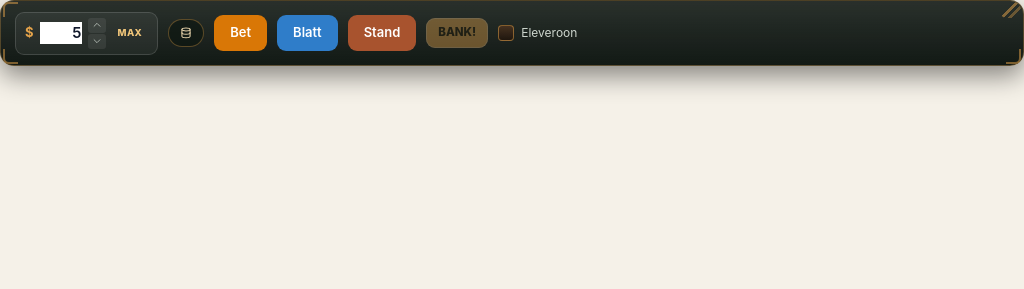
Scenario: PlayerDock quick-bet chips › clears a standing bet error the same as typing does
The image size is (1024, 289).
Click the button "Bet": (241,33) x1=214 y1=15 x2=267 y2=51
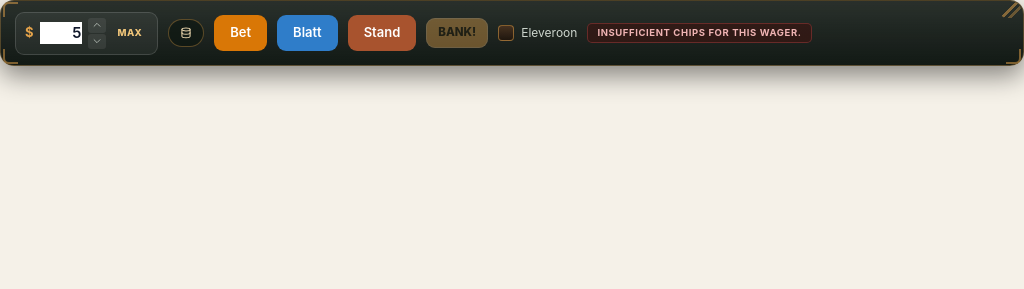
expect the text "Insufficient chips for this wager." is shown: met, box x1=587 y1=23 x2=812 y2=43
Click the button named "Quick-bet amounts": (186,33) x1=168 y1=19 x2=204 y2=47
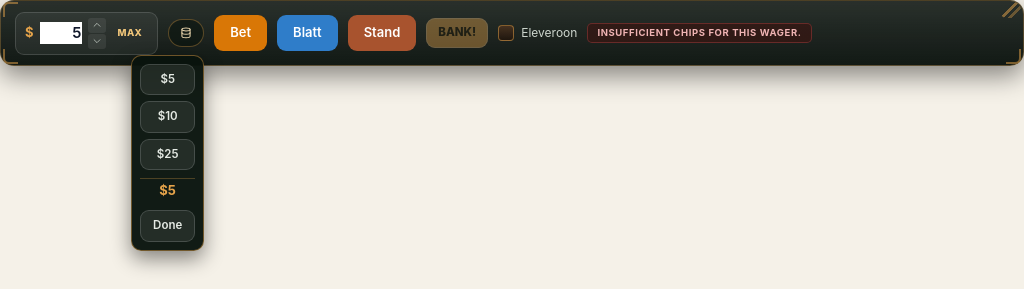
Click the menu item named "Add $10 to the bet": (168,117) x1=140 y1=101 x2=195 y2=133
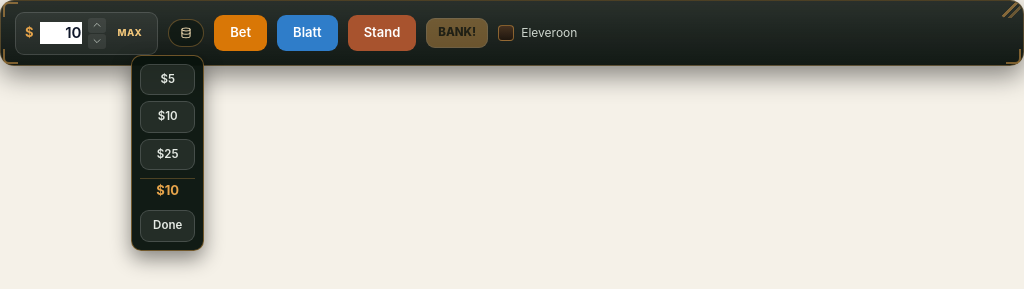
expect the text "Insufficient chips for this wager." is gone: met
